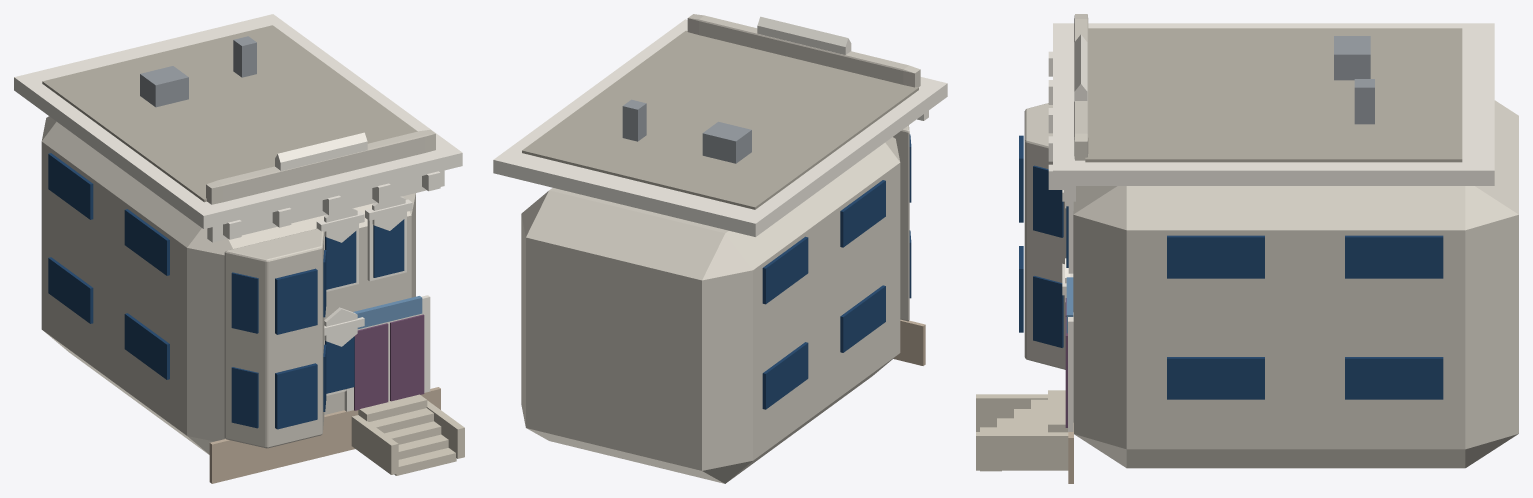
The model's file is ital_w7_bay.glb.
3 views of the same model, side by side, from view 1: azimuth 30°, elevation 25°; view 2: azimuth 150°, elevation 25°; view 3: azimuth 270°, elevation 25° (orthographic). The views are drawn at different scales.
Parts seen in each view (by area): view 1: walls, roofslab, corn, bay, fparapet, bsmt, door.001, door, bw, bw.001, frieze, sb (+27 smaller); view 2: walls, roofslab, corn, fparapet, bay, sb.002, sb.006, sb, sb.004, hvac, bsmt, roof (+2 smaller); view 3: walls, roofslab, corn, bay, sb.007, sb.005, sb.003, sb.001, cheek.001, bwa.001, bwa.003, hvac (+6 smaller).
Part boxes in pixels (bbox=[...]): walls: bbox=[41, 116, 415, 454]; roofslab: bbox=[42, 25, 417, 202]; corn: bbox=[14, 14, 462, 228]; bay: bbox=[224, 228, 324, 448]; fparapet: bbox=[206, 129, 435, 204]; bsmt: bbox=[209, 387, 440, 483]; door.001: bbox=[390, 314, 424, 401]; door: bbox=[354, 323, 388, 410]; bw: bbox=[275, 363, 317, 429]; bw.001: bbox=[275, 268, 317, 334]; frieze: bbox=[207, 170, 444, 242]; sb: bbox=[124, 313, 169, 379]; walls: bbox=[521, 137, 900, 483]; roofslab: bbox=[522, 30, 918, 209]; corn: bbox=[493, 19, 947, 236]; fparapet: bbox=[687, 14, 920, 87]; bay: bbox=[893, 125, 909, 321]; sb.002: bbox=[762, 342, 808, 409]; sb.006: bbox=[762, 236, 808, 304]; sb: bbox=[840, 285, 885, 352]; sb.004: bbox=[840, 180, 885, 247]; hvac: bbox=[702, 121, 751, 163]; bsmt: bbox=[893, 319, 925, 365]; roof: bbox=[757, 16, 850, 46]; walls: bbox=[1073, 100, 1518, 468]; roofslab: bbox=[1085, 28, 1462, 162]; corn: bbox=[1053, 23, 1494, 185]; bay: bbox=[1024, 103, 1066, 369]; sb.007: bbox=[1345, 235, 1443, 278]; sb.005: bbox=[1167, 235, 1264, 278]; sb.003: bbox=[1345, 357, 1443, 399]; sb.001: bbox=[1167, 357, 1264, 399]; cheek.001: bbox=[976, 432, 1068, 470]; bwa.001: bbox=[1033, 276, 1063, 347]; bwa.003: bbox=[1033, 165, 1063, 237]; hvac: bbox=[1334, 36, 1370, 80].
Bounding box in the file's own units: 8.6 × 9.85 × 13.4.
